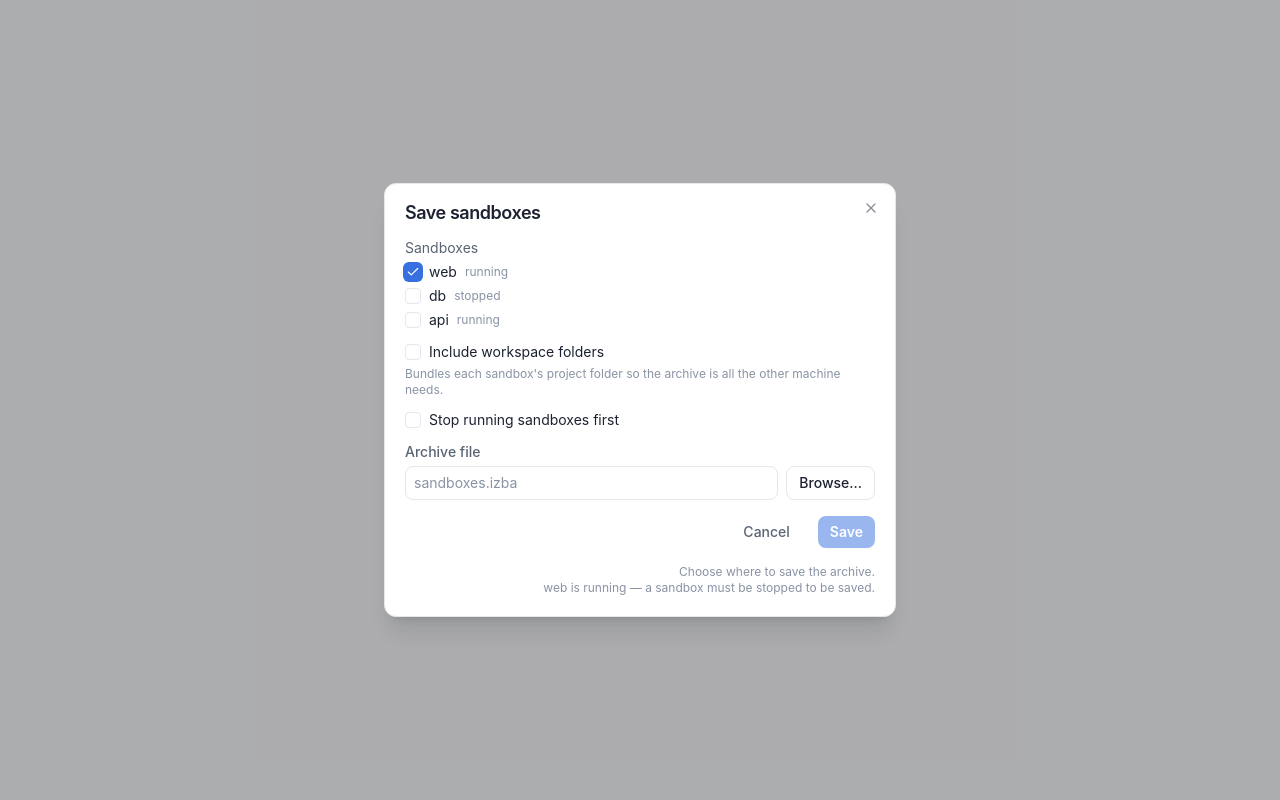
it: SaveArchive › asks again before stopping when the selection changes
Type "/backups/x.izba" into the field labelled "Archive file" at (592, 483), box [405,466,778,500]
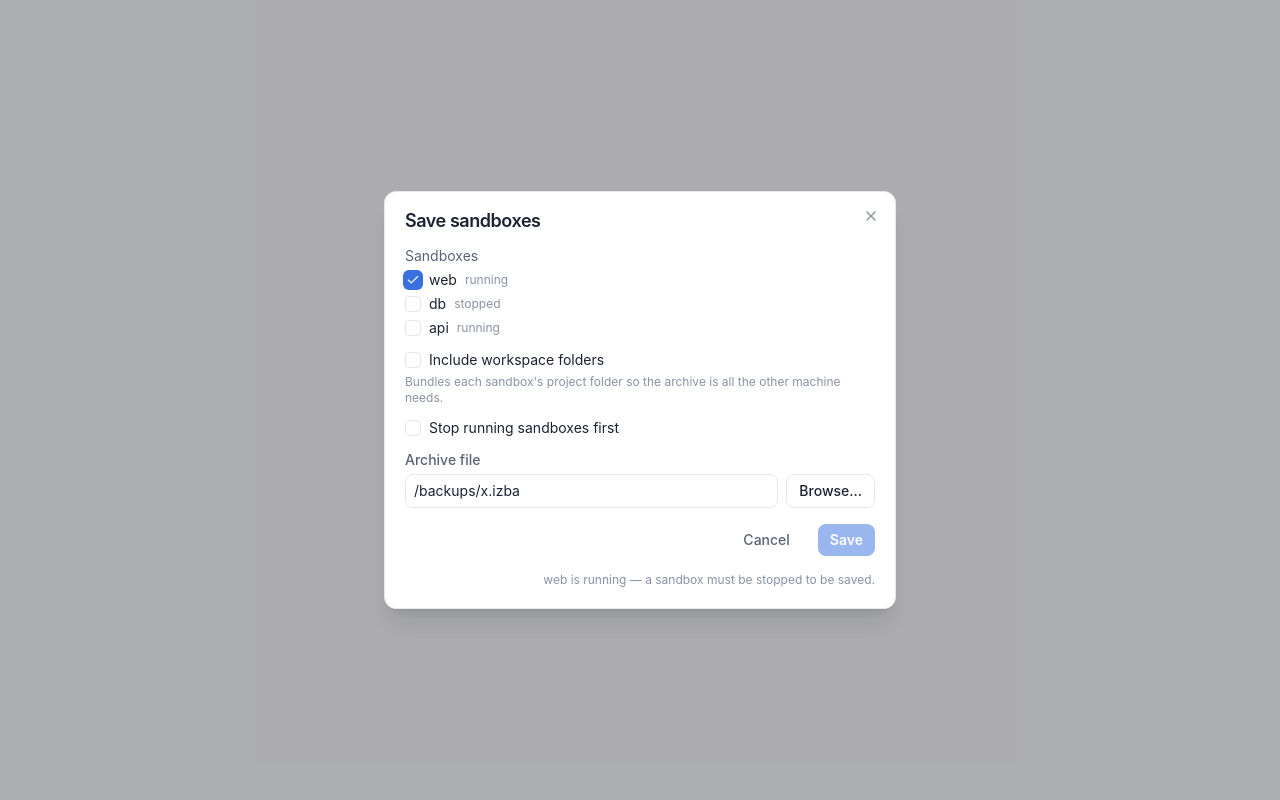
Click the checkbox named "stop running sandboxes" at (413, 428), box [405,420,421,436]
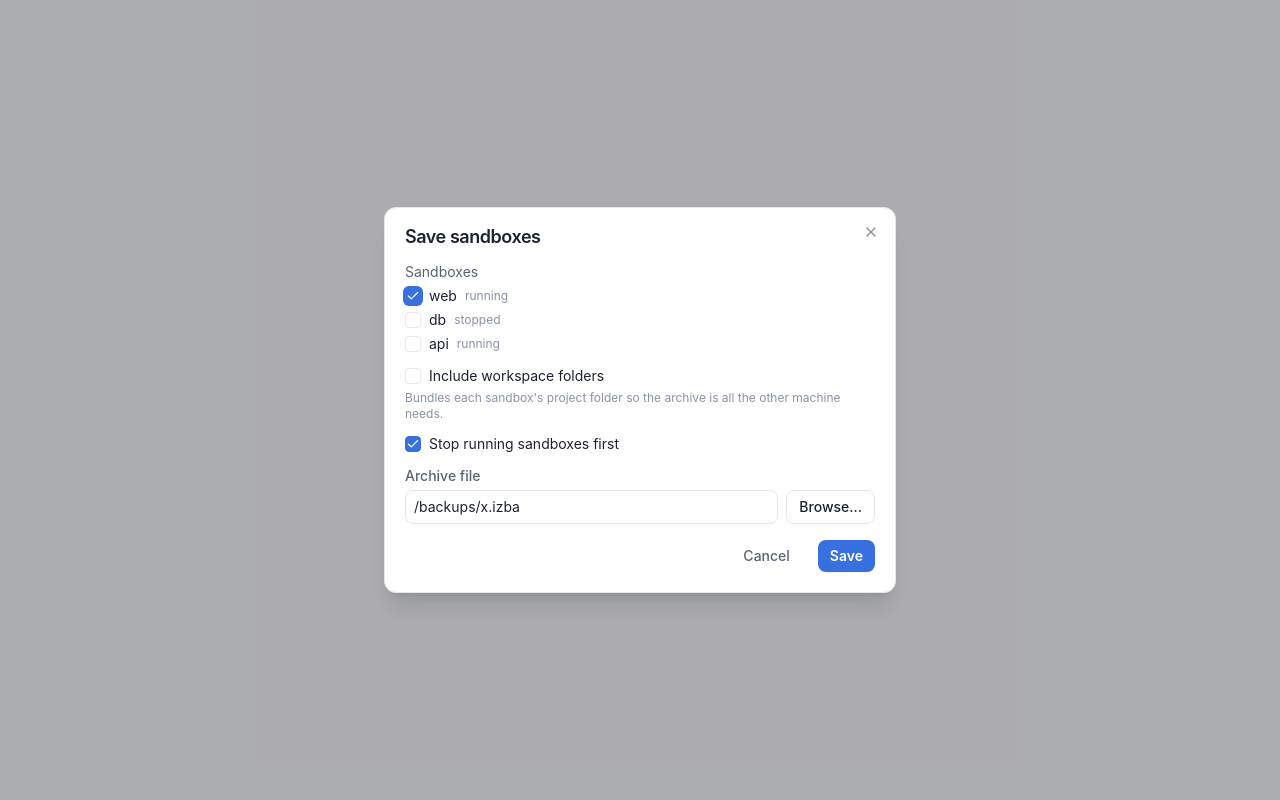
Check: the button "Save" is enabled, box [818,540,875,572]
Click the checkbox named "Save api" at (413, 344), box [405,336,421,352]
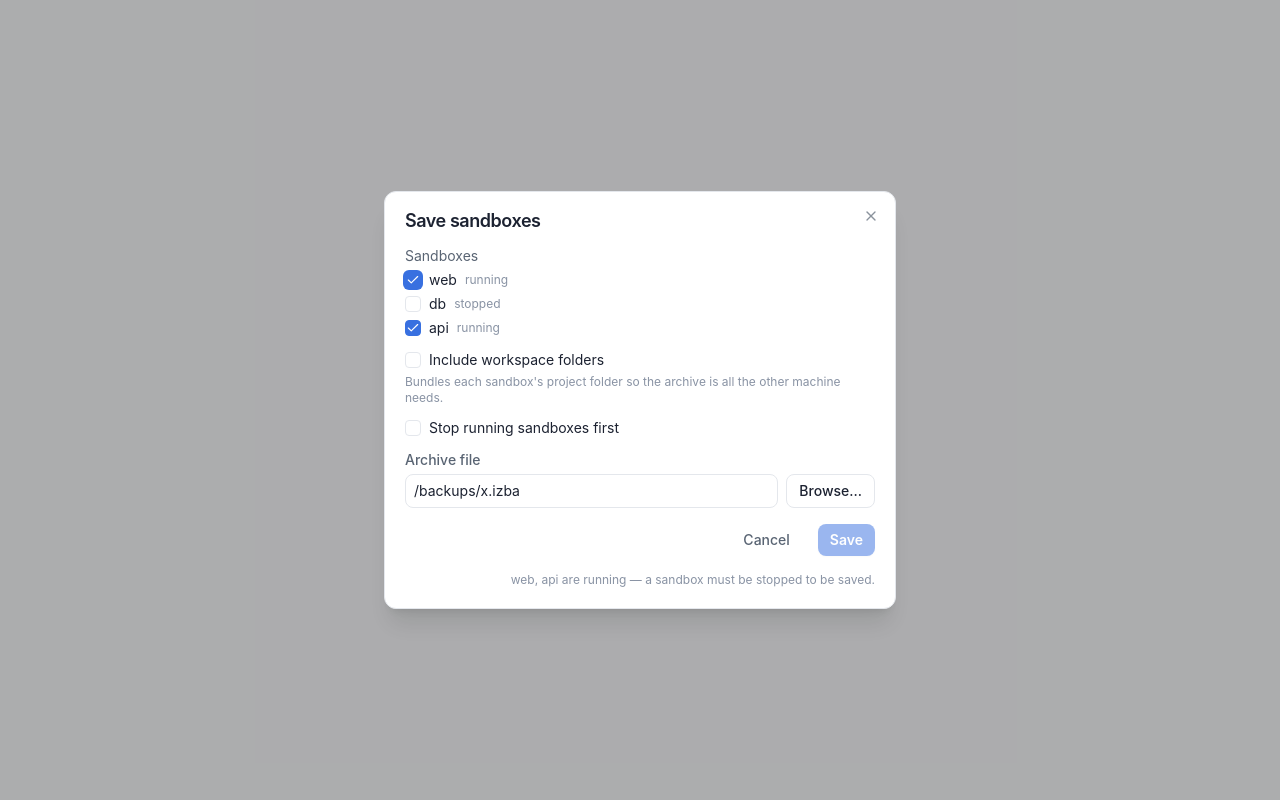
Check: the checkbox named "stop running sandboxes" is not checked, box [405,420,421,436]
Check: the button "Save" is disabled, box [818,524,875,556]
